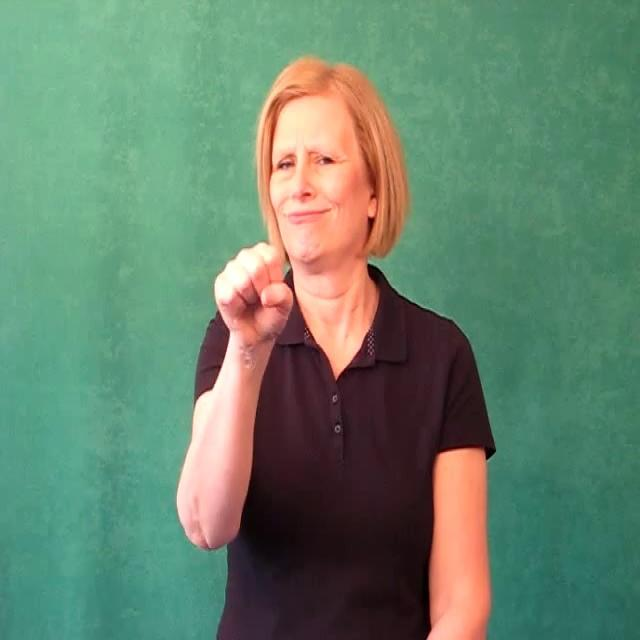yes: (212, 238, 292, 352)
